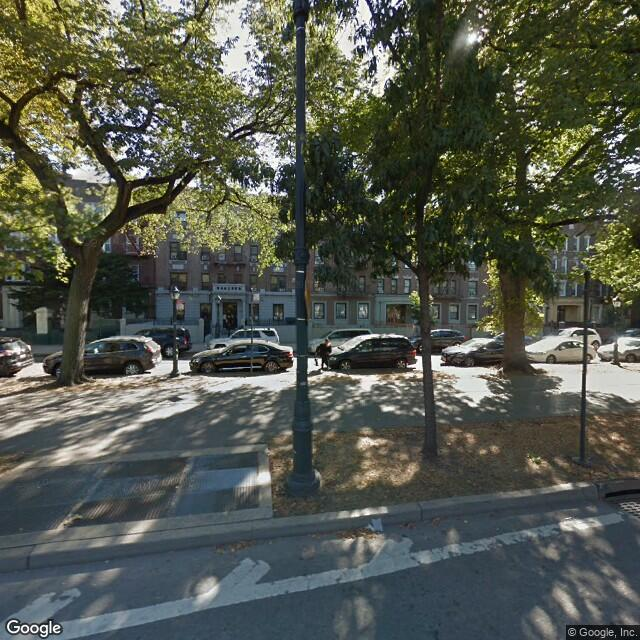litter: (364, 519, 385, 533), (101, 554, 109, 562), (444, 440, 451, 448)
